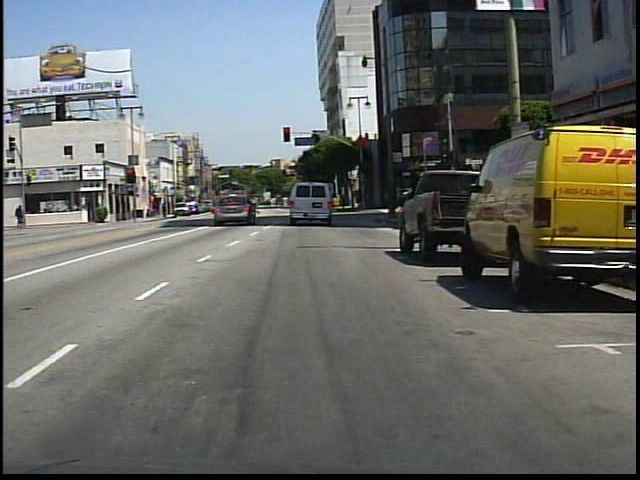person: (287, 190, 305, 222), (13, 202, 25, 230), (256, 194, 257, 219)
